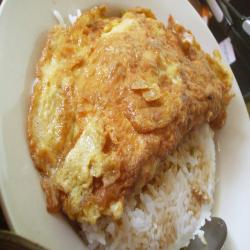omelette: (29, 14, 201, 188)
rice: (128, 146, 216, 242)
